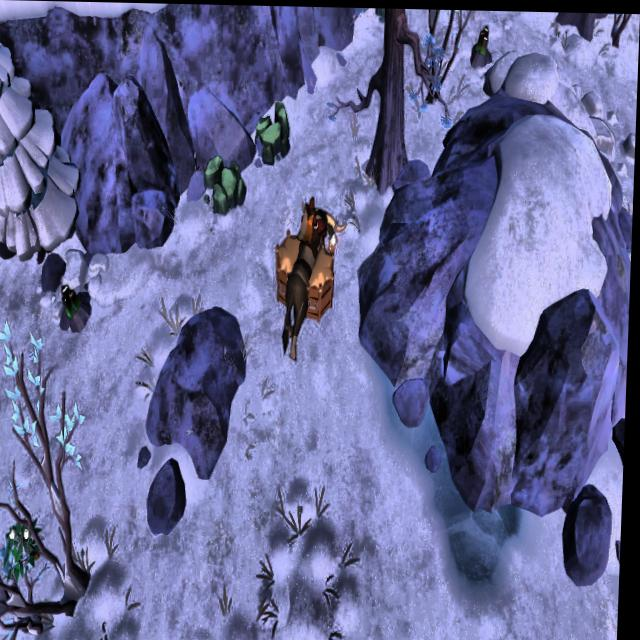fiber_t3: (7, 517, 47, 584)
ore_t3: (62, 277, 84, 317), (474, 21, 492, 57)
rock_t3: (253, 95, 297, 168), (201, 157, 250, 212)
